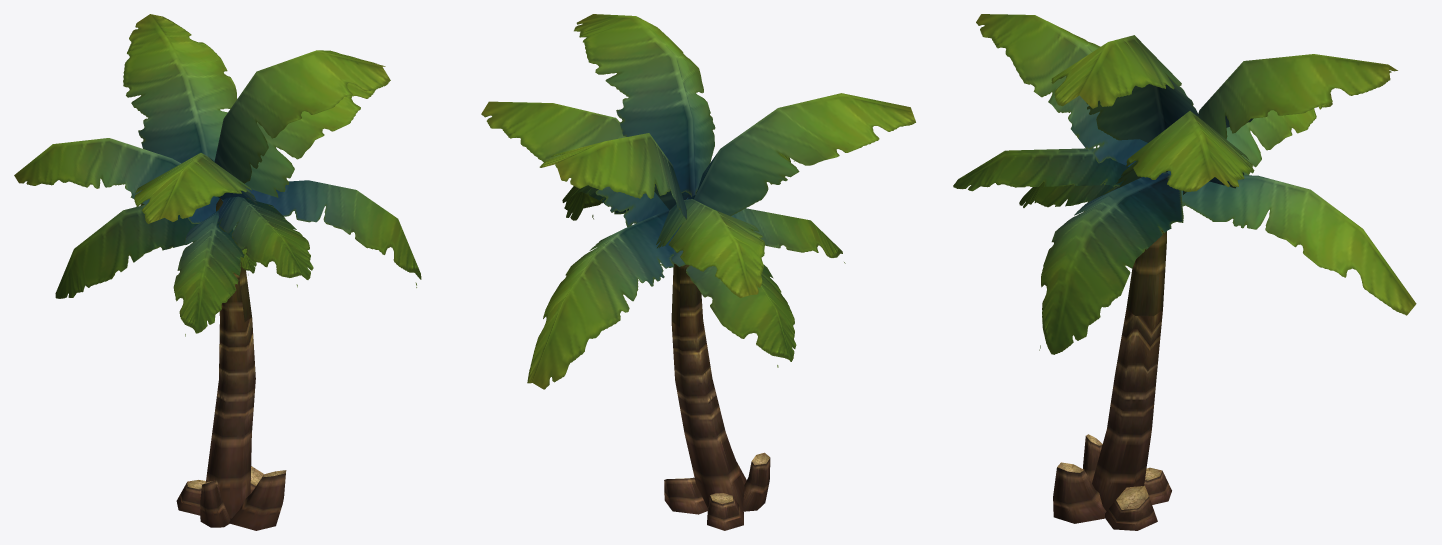
Rendered from tree_07.fbx.
3 views of the same model, side by side, from view 1: azimuth 30°, elevation 25°; view 2: azimuth 150°, elevation 25°; view 3: azimuth 270°, elevation 25° (orthographic). The views are drawn at different scales.
Visible parts, largest first — view 1: tree_07; view 2: tree_07; view 3: tree_07.
Part boxes in pixels (left/top/right/bottom): tree_07: left=14, top=14, right=421, bottom=530; tree_07: left=481, top=14, right=915, bottom=530; tree_07: left=953, top=14, right=1416, bottom=530.
Bounding box in the file's own units: 331 × 403 × 339.
1 material, 1 textured.
